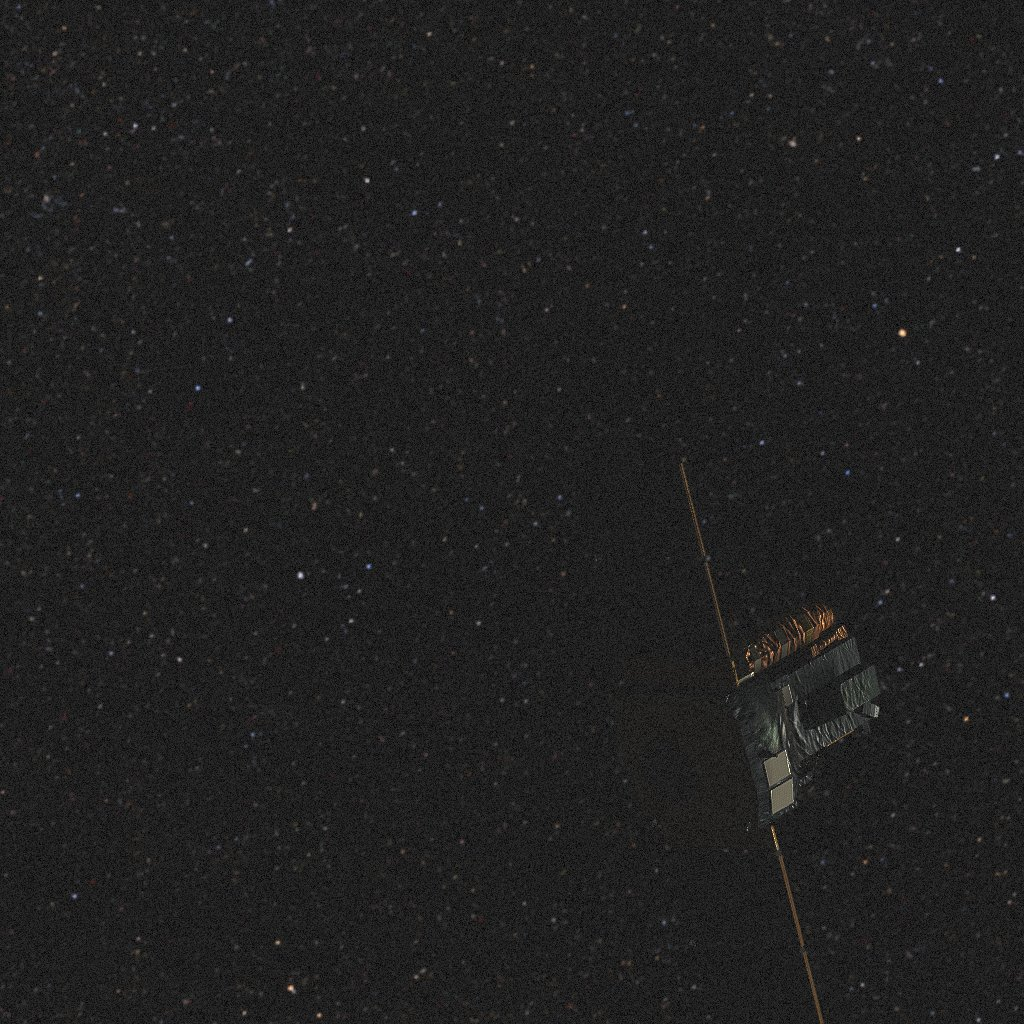soho: (545, 439, 866, 999)
